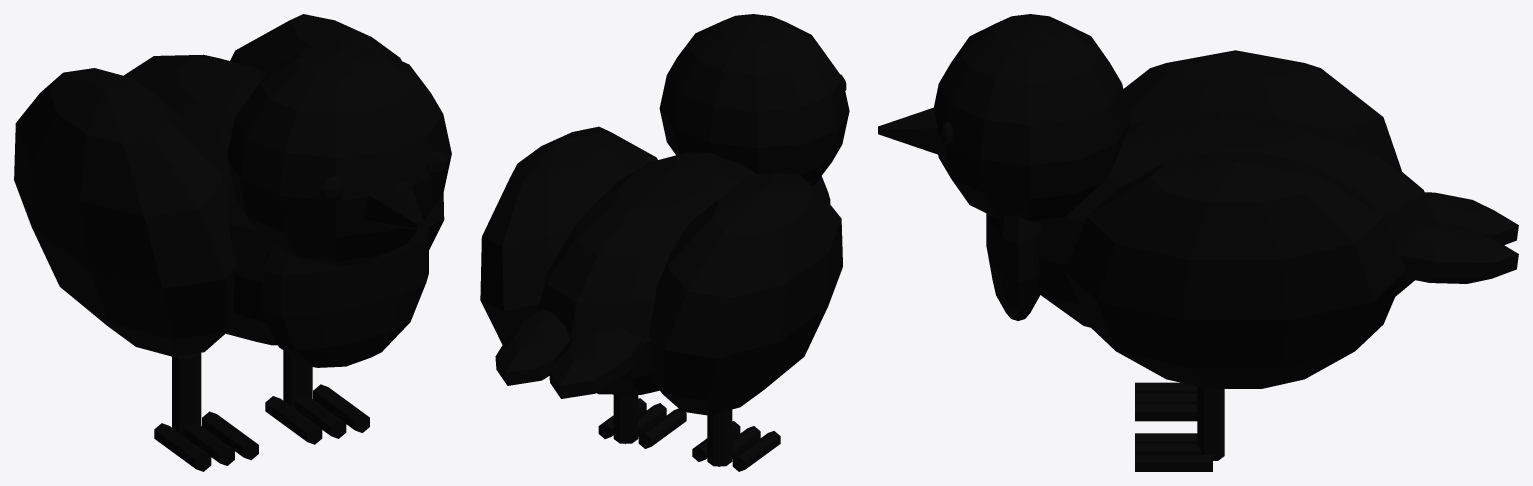
File: perched.glb
3 renders of one model, left to right at view 1: azimuth 30°, elevation 25°; view 2: azimuth 150°, elevation 25°; view 3: azimuth 270°, elevation 25°, orthographic. The views are drawn at different scales.
Parts seen in each view (by area): view 1: Wing_L, Head, BreastPatch, Body, Wing_R, Beak, Leg_L, Leg_R, Toe_R_0, Toe_L_0, Toe_L_2, Toe_R_2 (+4 smaller); view 2: Wing_L, Head, Body, Wing_R, Tail_L, Tail_R, Leg_L, Leg_R, Toe_L_0, Toe_R_0, Toe_R_1, Toe_L_1 (+2 smaller); view 3: Wing_R, Head, Body, Wing_L, Tail_R, BreastPatch, Tail_L, Leg_R, Beak, Toe_R_2, Toe_L_2, Toe_L_1 (+3 smaller).
Boxes of the visible parts, x1,y1,x2,y2 form: Wing_L: [14, 68, 236, 356]; Head: [226, 41, 451, 266]; BreastPatch: [262, 221, 428, 367]; Body: [124, 54, 277, 345]; Wing_R: [230, 14, 444, 249]; Beak: [364, 179, 424, 229]; Leg_L: [172, 352, 201, 435]; Leg_R: [283, 350, 312, 408]; Toe_R_0: [265, 396, 322, 444]; Toe_L_0: [154, 423, 211, 471]; Toe_L_2: [202, 411, 258, 460]; Toe_R_2: [313, 384, 369, 432]; Wing_L: [649, 172, 842, 415]; Head: [659, 14, 849, 186]; Body: [537, 151, 760, 394]; Wing_R: [480, 126, 657, 344]; Tail_L: [549, 327, 643, 398]; Tail_R: [495, 309, 569, 385]; Leg_L: [707, 409, 732, 466]; Leg_R: [613, 394, 638, 443]; Toe_L_0: [732, 431, 780, 471]; Toe_R_0: [638, 408, 686, 448]; Toe_R_1: [625, 403, 666, 443]; Toe_L_1: [718, 426, 760, 466]; Wing_R: [1064, 152, 1406, 388]; Head: [934, 14, 1129, 222]; Body: [1038, 112, 1436, 327]; Wing_L: [1123, 50, 1401, 171]; Tail_R: [1397, 221, 1518, 283]; BreastPatch: [986, 213, 1040, 320]; Tail_L: [1425, 192, 1518, 245]; Leg_R: [1197, 386, 1224, 460]; Beak: [878, 107, 941, 154]; Toe_R_2: [1135, 455, 1212, 471]; Toe_L_2: [1135, 404, 1197, 421]; Toe_L_1: [1135, 393, 1197, 404].
Size of the model in its own units: 0.0873 by 0.1064 by 0.15.
Materials: 8 (8 with a texture image).
